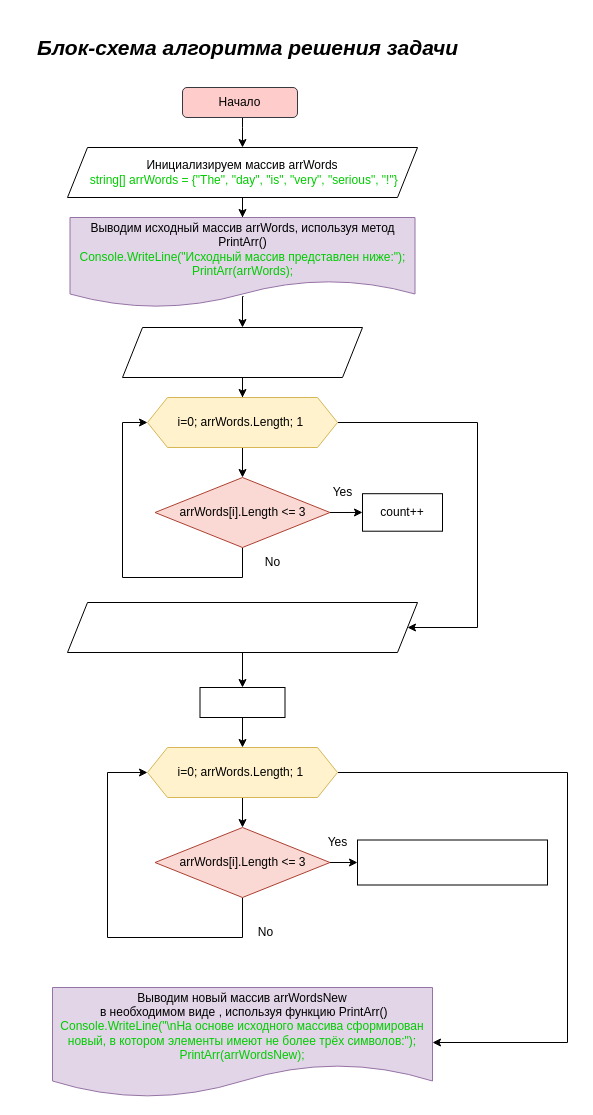
Image size: 593x1115. Some labels were removed from this diagram. Each missing label, with the centre of its shape:
arrWordsNew[count] = arrWords[i] count ++: (452,862)
count = 0: (242,702)
Инициализируем вспомогательную переменную count int count = 0: (242,352)
Инициализируем новый массив arrWordsNew string[] arrWordsNew = new string[count]: (242,627)
